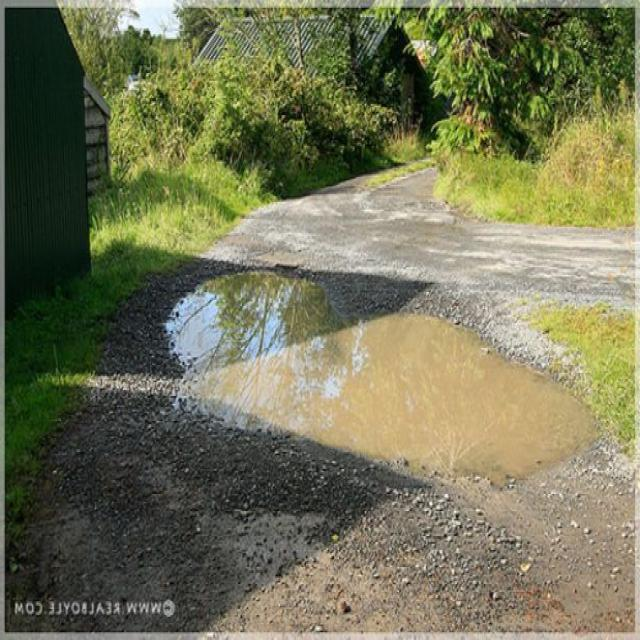Pothole: (163, 256, 601, 483)
